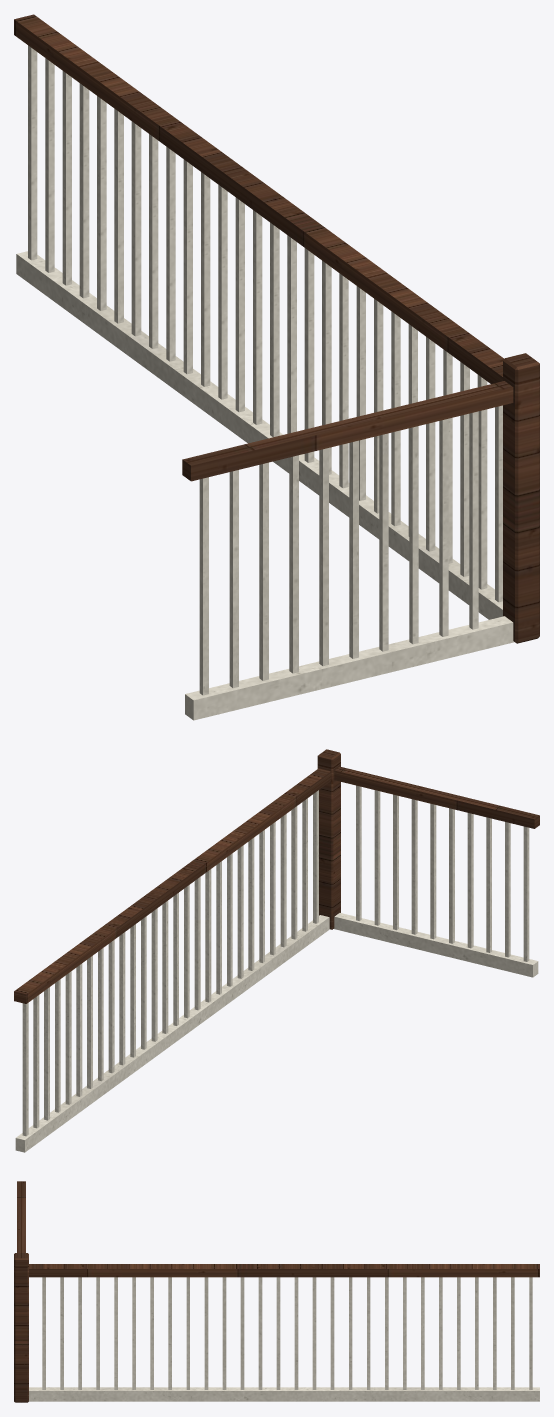
Rendered from stair_rail.glb.
3 views of the same model, one above another, from view 1: azimuth 30°, elevation 25°; view 2: azimuth 150°, elevation 25°; view 3: azimuth 270°, elevation 25° (orthographic). The views are drawn at different scales.
Visible parts, largest first — view 1: stair_rail_trim, stair_rail_wood; view 2: stair_rail_trim, stair_rail_wood; view 3: stair_rail_trim, stair_rail_wood.
Part boxes in pixels (x1,y1,x2,y2): stair_rail_trim: (16, 45, 514, 720); stair_rail_wood: (14, 14, 539, 643); stair_rail_trim: (15, 785, 538, 1152); stair_rail_wood: (14, 749, 539, 1003); stair_rail_trim: (29, 1277, 539, 1401); stair_rail_wood: (14, 1181, 539, 1402).
Bounding box in the file's own units: 1.39 × 1.06 × 3.5.
2 materials, 2 textured.
